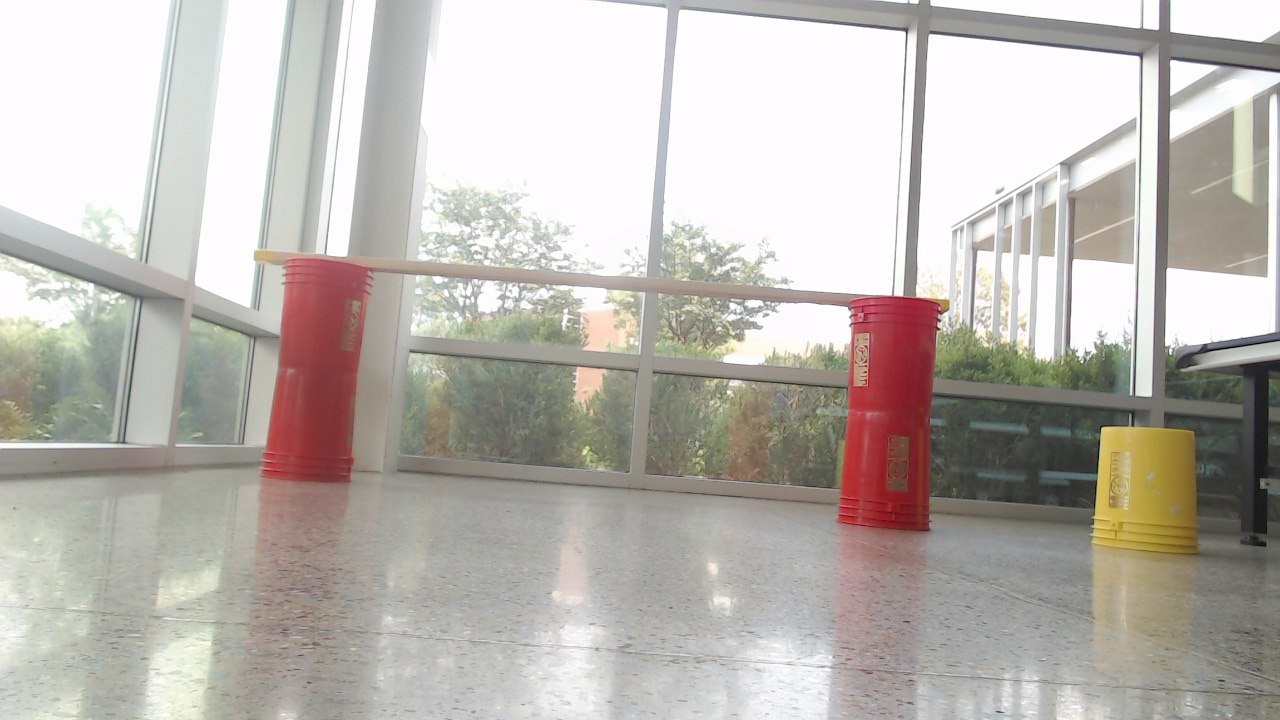red_bucket_arch: (260, 255, 945, 542)
yellow_bucket: (1090, 427, 1212, 568)
